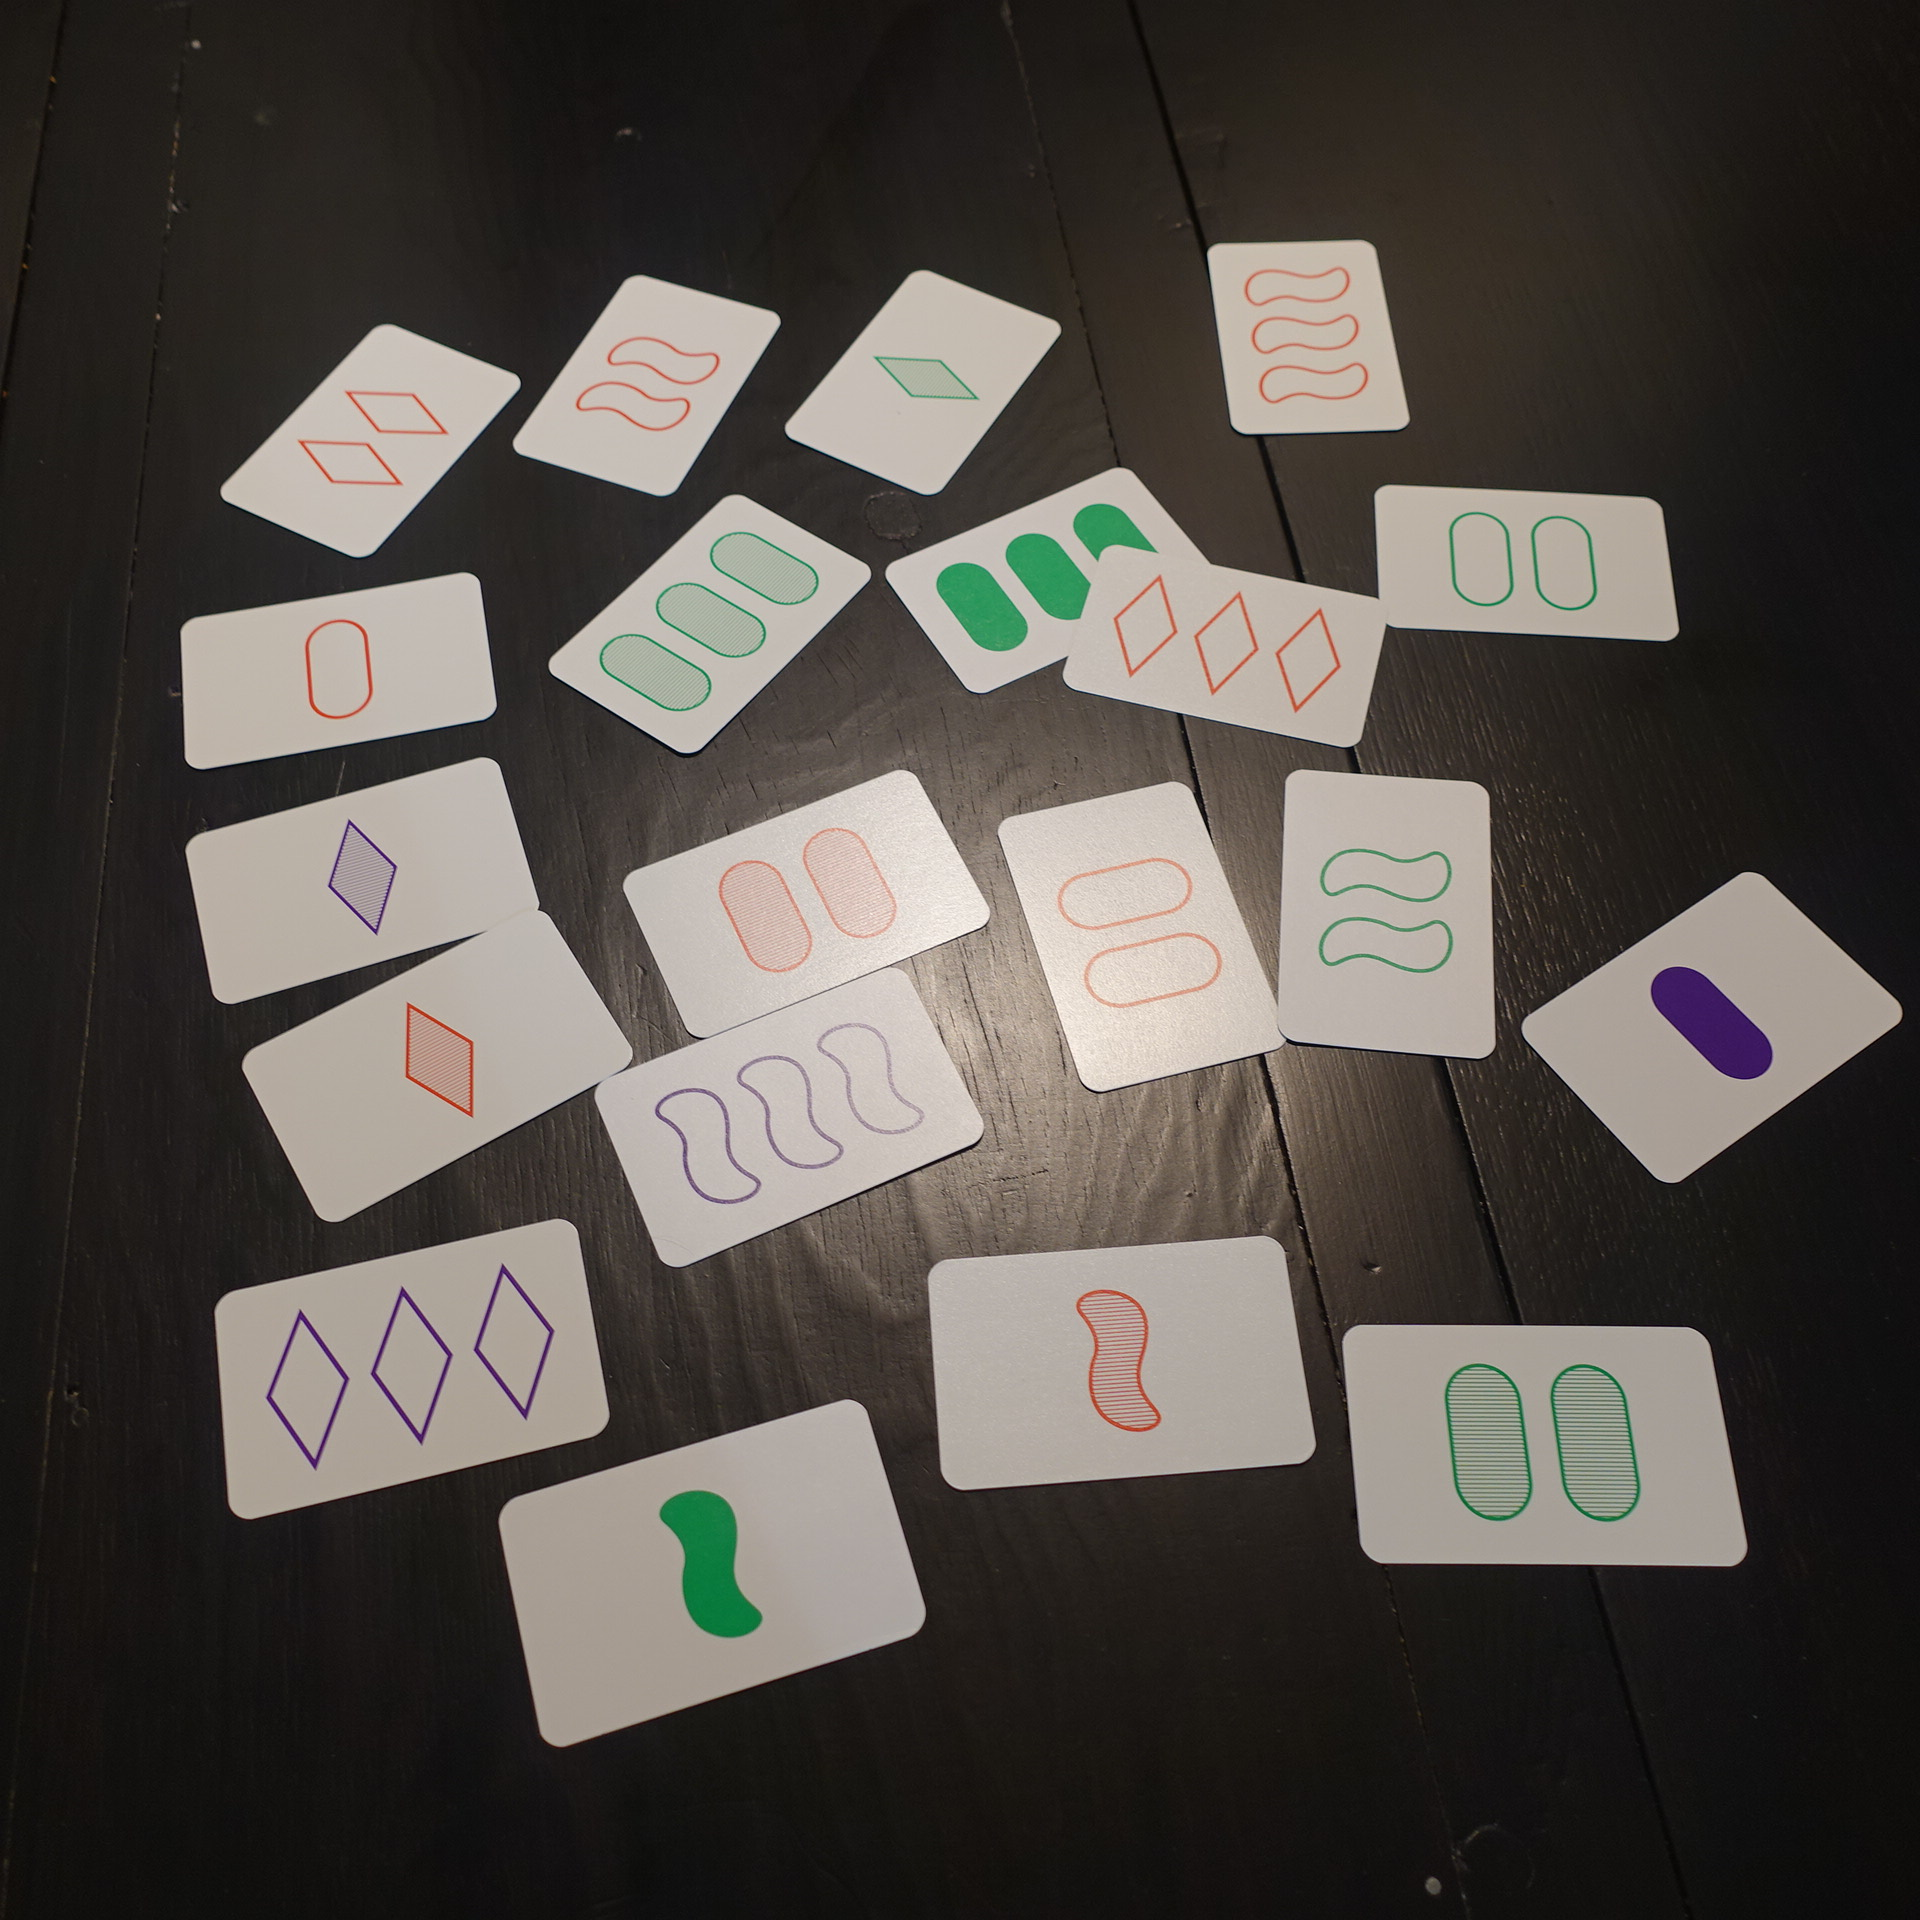c-1-f-d-g: (485, 1387, 935, 1756)
c-1-f-o-p: (1493, 862, 1913, 1196)
c-1-h-d-g: (774, 255, 1073, 513)
c-1-h-d-p: (178, 753, 557, 1009)
c-1-h-d-r: (227, 905, 644, 1238), (902, 1222, 1336, 1502)
c-1-u-o-r: (171, 564, 505, 775)
c-2-h-o-g: (1340, 1306, 1755, 1577)
c-2-h-o-r: (612, 753, 1000, 1050)
c-2-u-d-g: (1261, 758, 1510, 1071)
c-2-u-d-r: (204, 318, 527, 570), (506, 260, 784, 513)
c-2-u-o-g: (1356, 478, 1690, 659)
c-2-u-o-r: (997, 768, 1289, 1104)
c-3-f-o-g: (876, 455, 1220, 703)
c-3-h-o-g: (533, 482, 879, 767)
c-3-u-d-p: (199, 1206, 635, 1524), (584, 955, 999, 1280)
c-3-u-d-r: (1046, 533, 1394, 761)
c-3-u-s-r: (1199, 230, 1424, 450)
